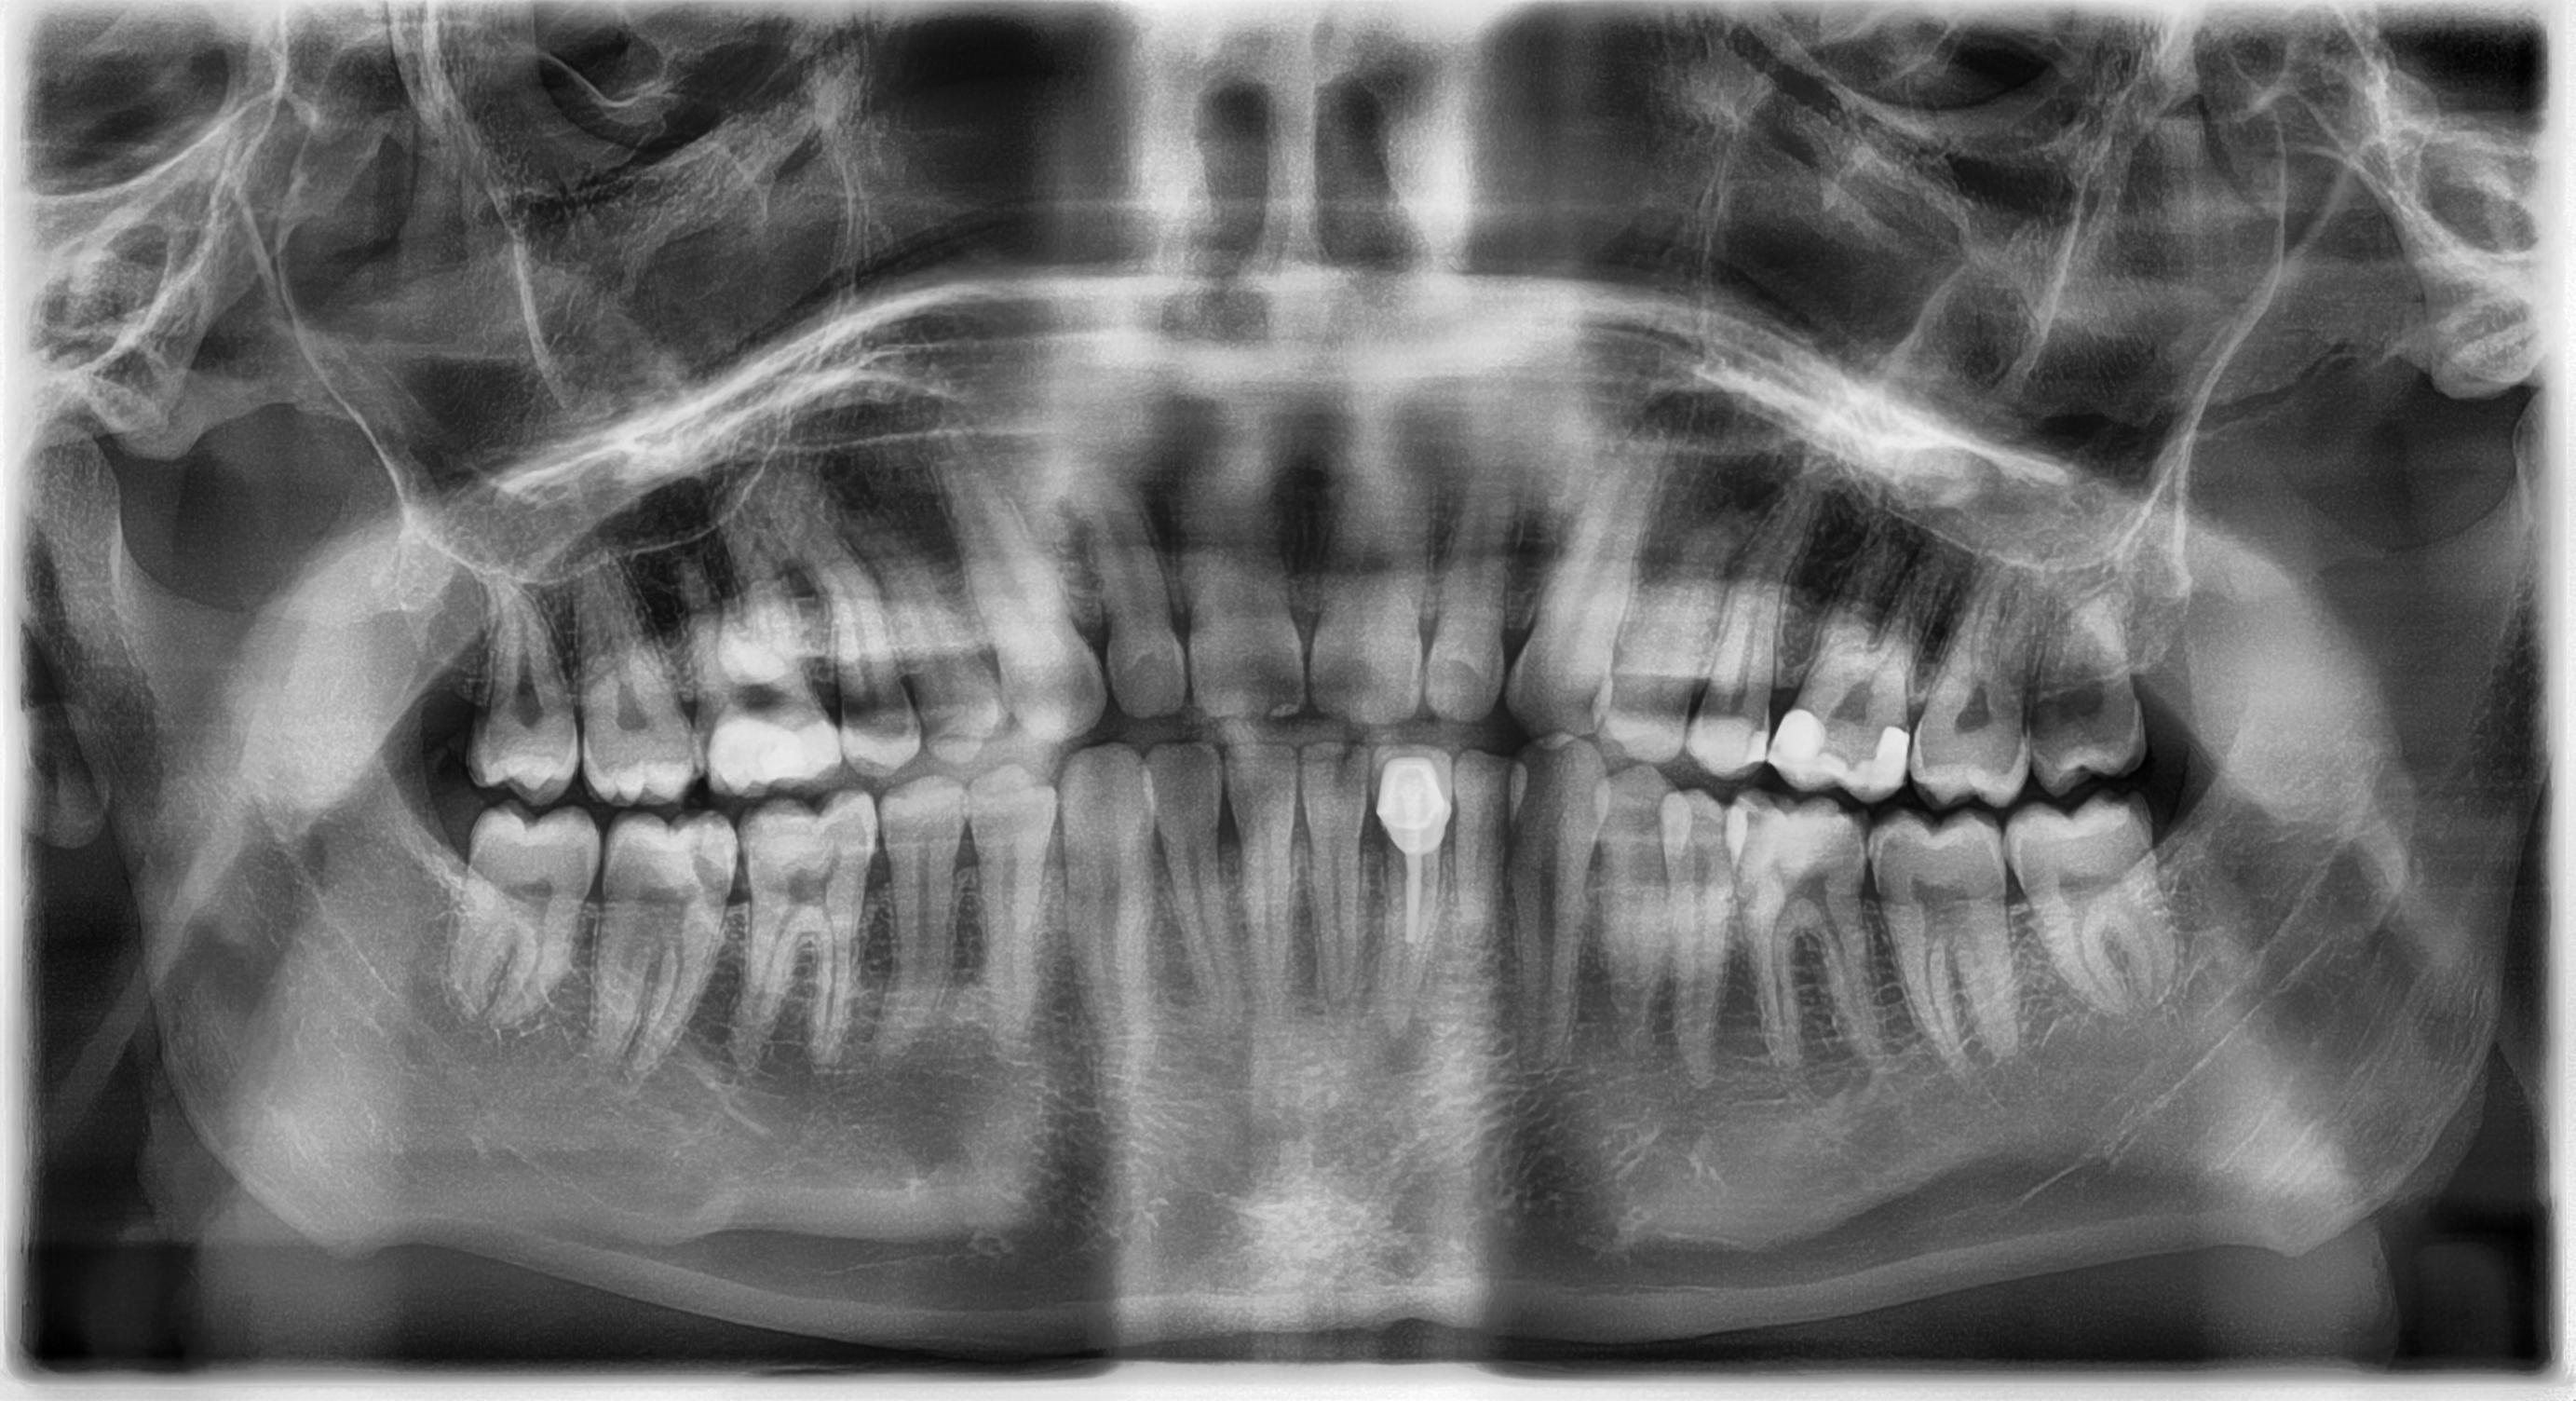cordal: (416, 571, 631, 818), (1998, 788, 2212, 1035), (1990, 542, 2204, 788), (421, 792, 635, 1039)
dientes_sanos: (341, 462, 2326, 1118)
